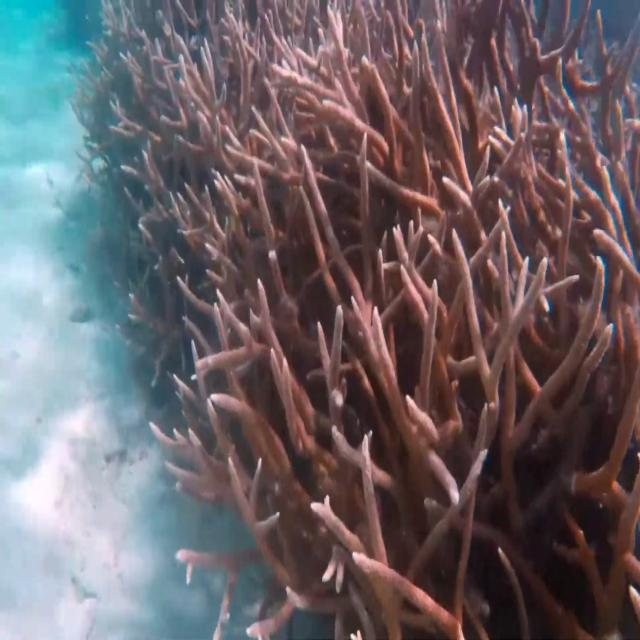Staghorn-Coral -Endangered-: (69, 0, 640, 640)
